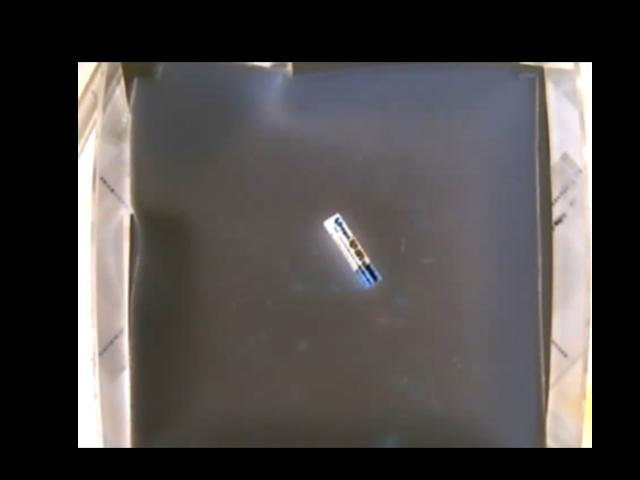Battery: (322, 212, 379, 287)
